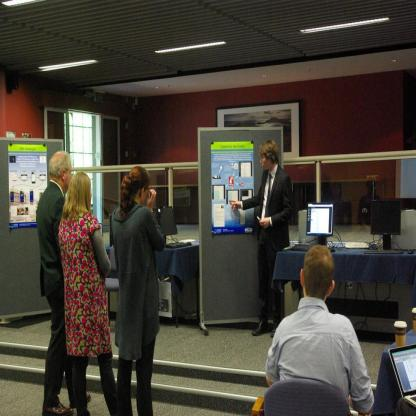board: (388, 344, 416, 408)
